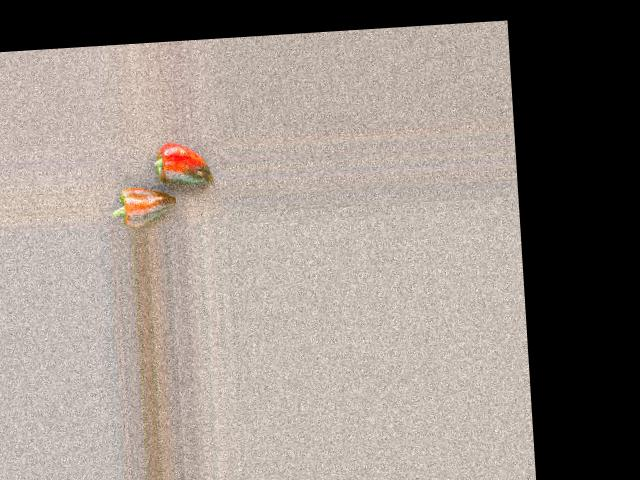bell_pepper: (132, 138, 217, 191)
